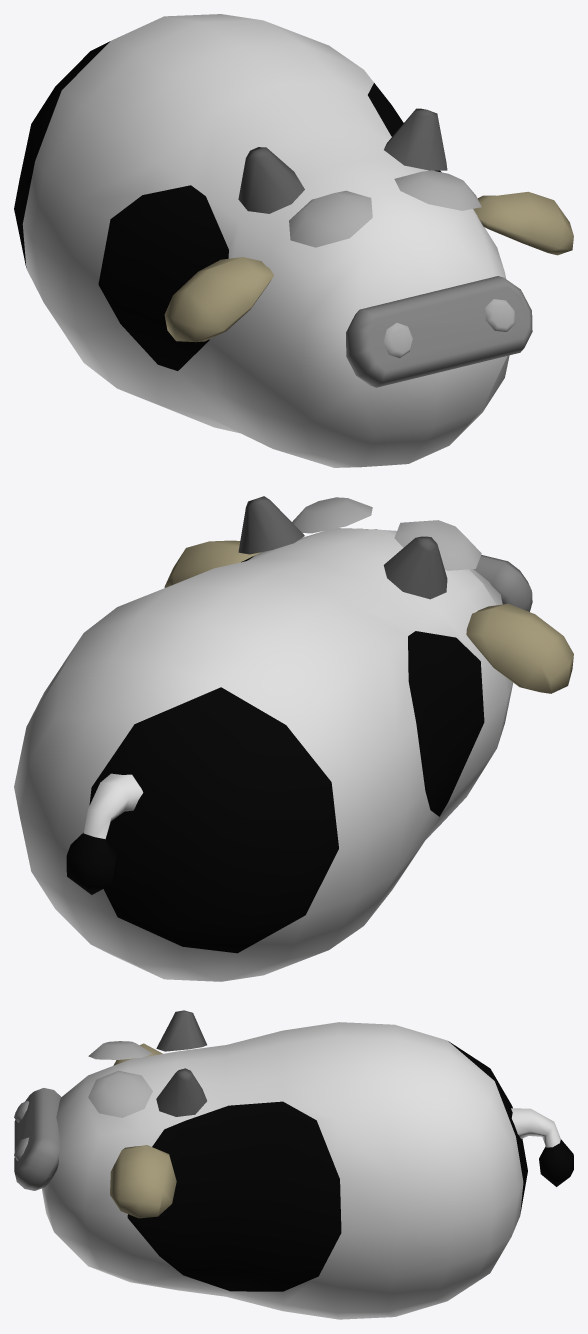
The model's file is SM_Cow.fbx.
3 views of the same model, one above another, from view 1: azimuth 30°, elevation 25°; view 2: azimuth 150°, elevation 25°; view 3: azimuth 270°, elevation 25° (orthographic). The views are drawn at different scales.
Visible parts, largest first — view 1: SM_Cow2; view 2: SM_Cow2; view 3: SM_Cow2.
Part boxes in pixels (x1=…): SM_Cow2: x1=14, y1=14, x2=573, y2=467; SM_Cow2: x1=14, y1=496, x2=573, y2=981; SM_Cow2: x1=14, y1=1010, x2=573, y2=1319.
Bounding box in the file's own units: 99.92 × 86.39 × 163.
